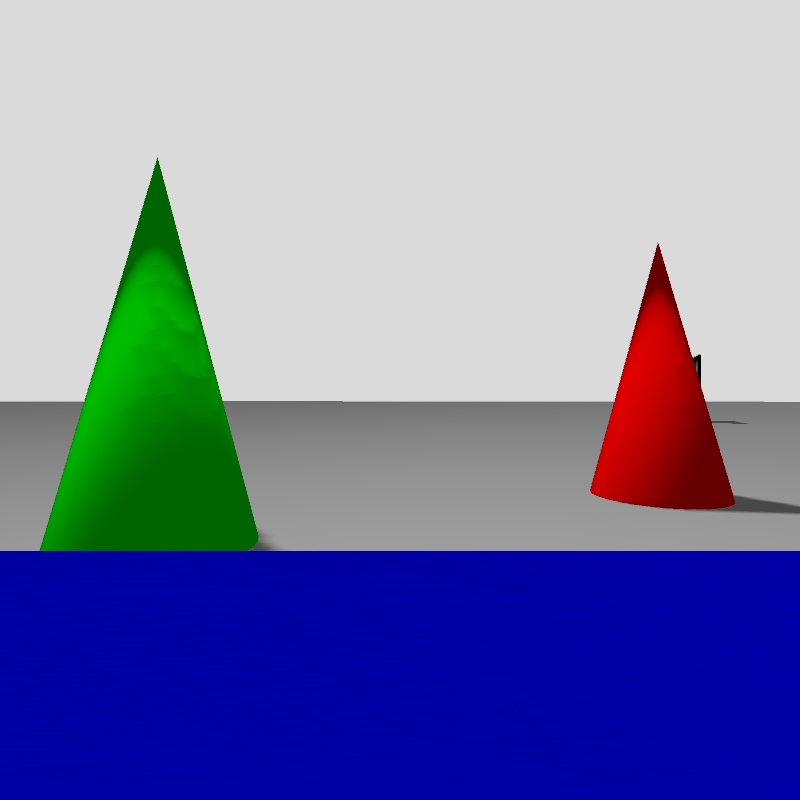Green_cone: (40, 161, 257, 550)
Red_cone: (590, 247, 734, 509)
